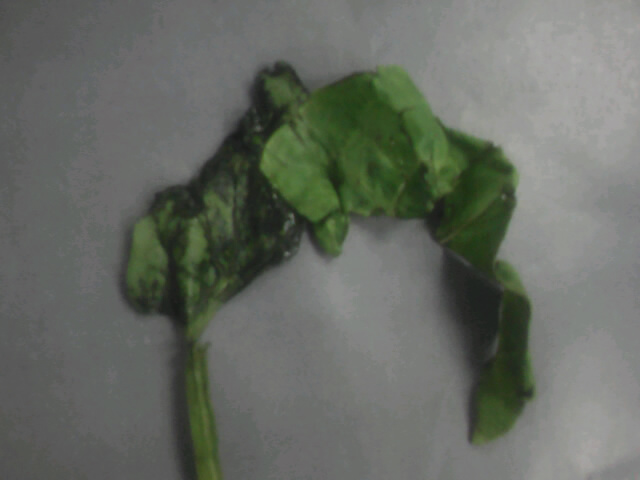yellow: (127, 59, 566, 442)
